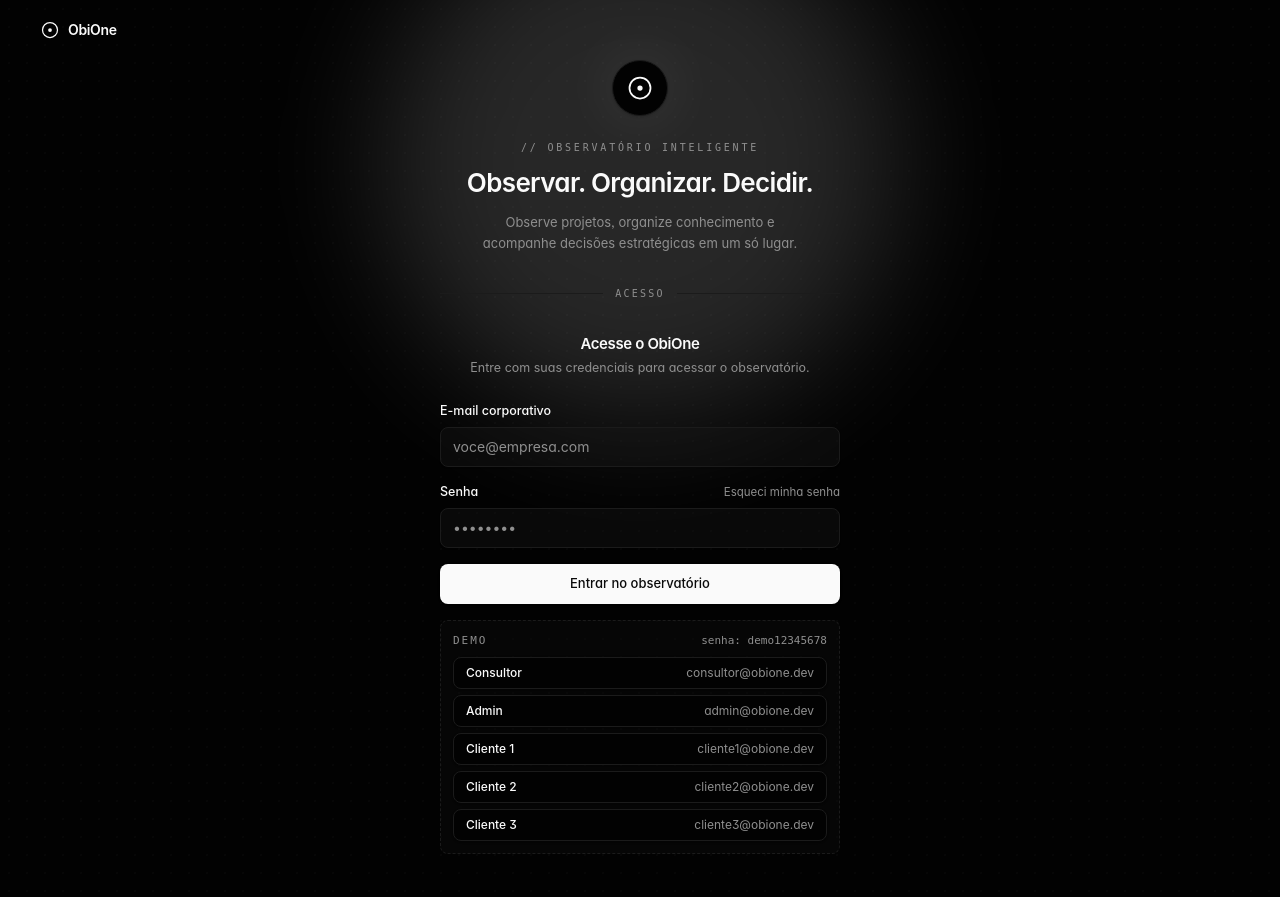
LoginPage › rejects short password
In the field labelled "E-mail corporativo": (640, 447) [440,427,840,467], type "c@x.com"
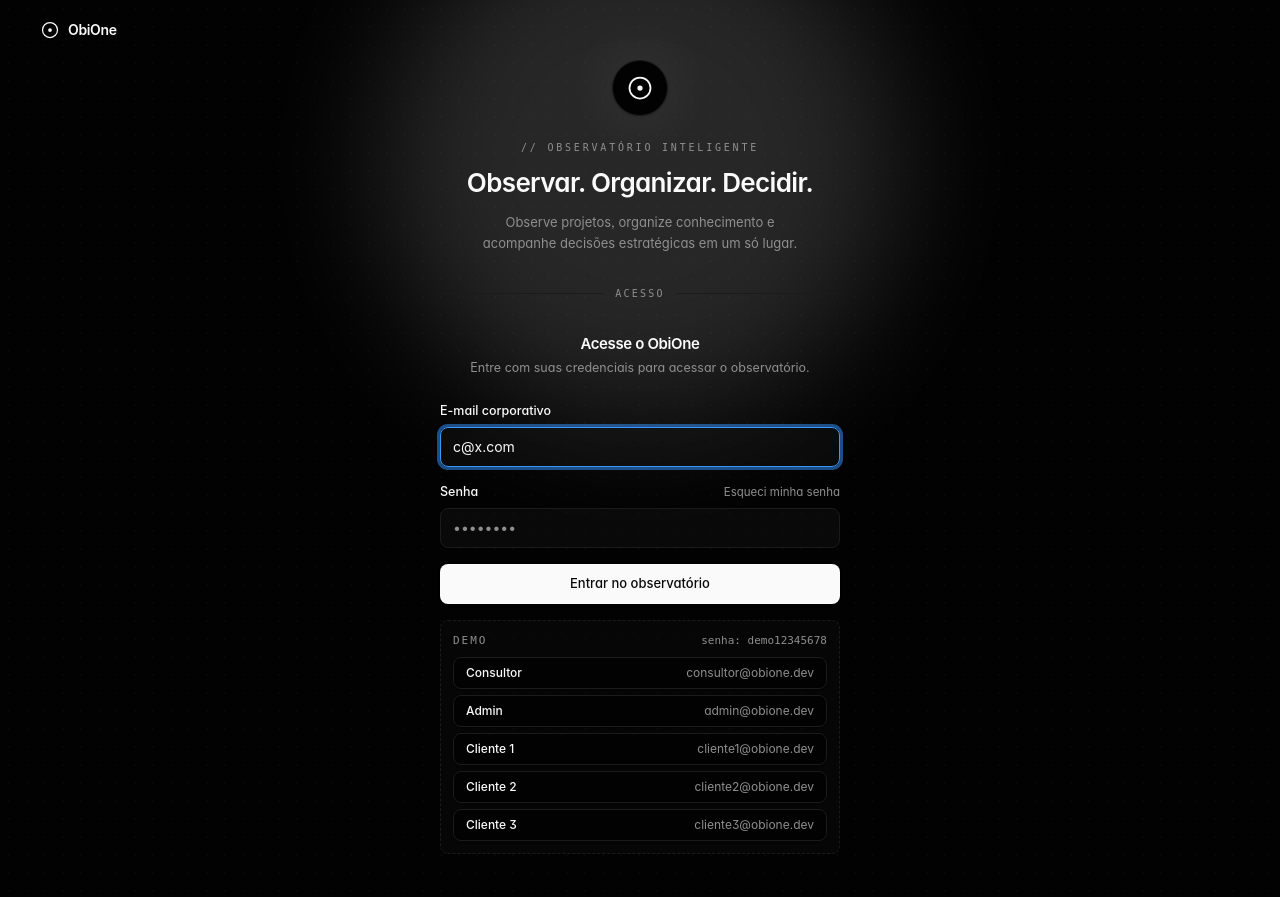
In the password field labelled "Senha": (640, 528) [440,508,840,548], type "short"
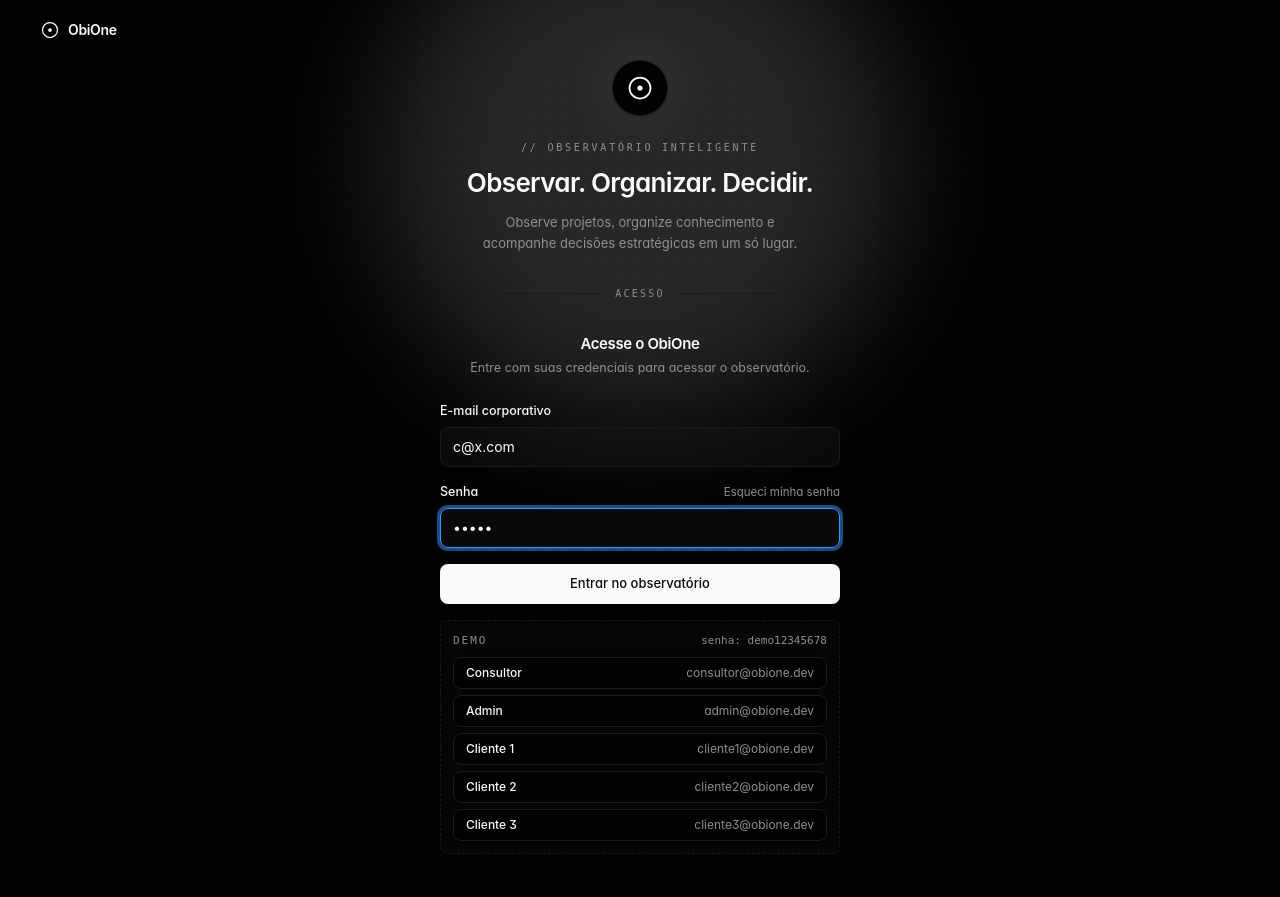
Click the button "Entrar no observatório": (640, 584) [440,564,840,604]
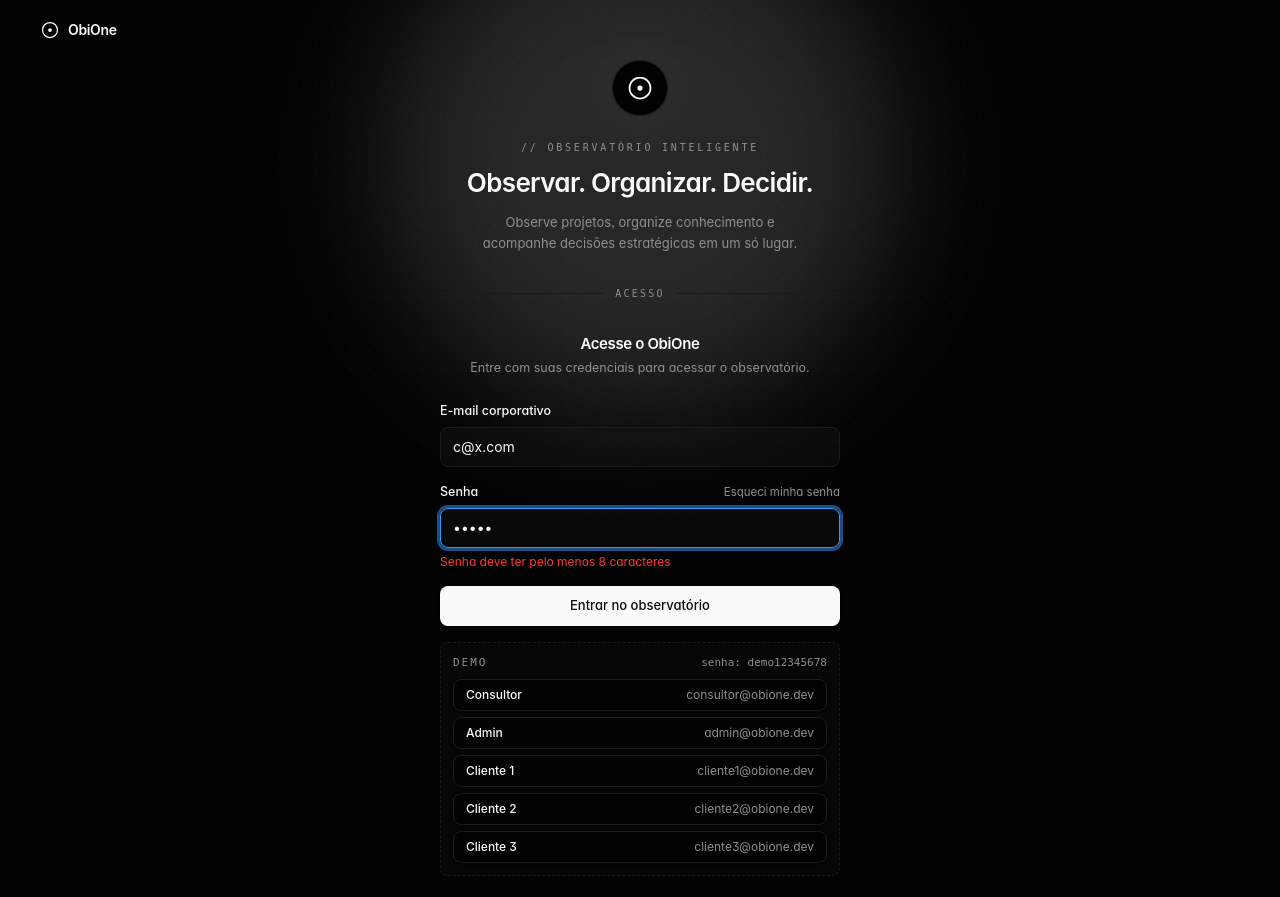
Result: the text "Senha deve ter pelo menos 8 caracteres" is shown at [440,554,671,568]
